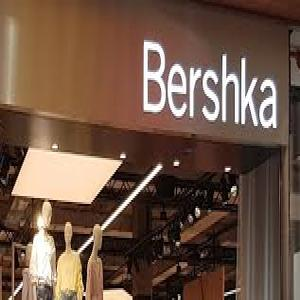bershka: (142, 26, 281, 139)
